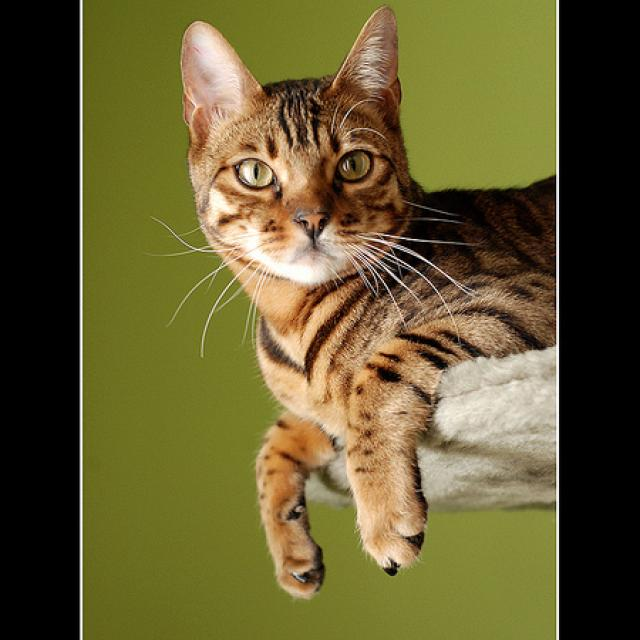Bengal: (163, 7, 592, 613)
